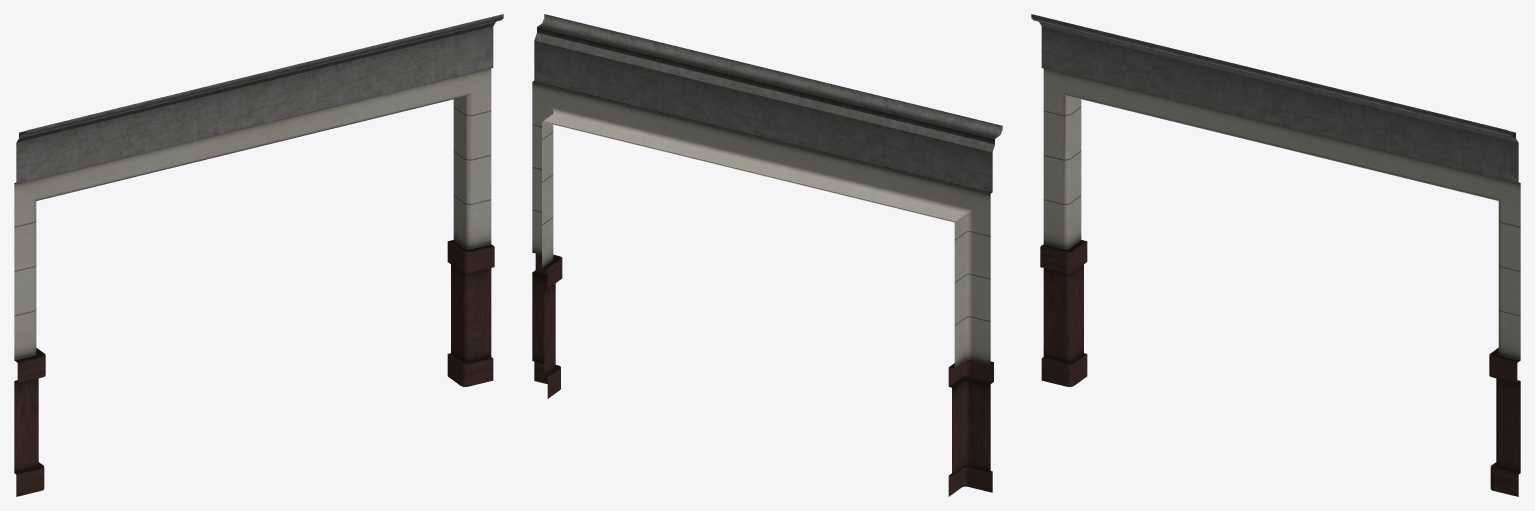
File: Wall 6 Gate.fbx
3 views of the same model, side by side, from view 1: azimuth 30°, elevation 25°; view 2: azimuth 150°, elevation 25°; view 3: azimuth 330°, elevation 25° (orthographic). The views are drawn at different scales.
Parts seen in each view (by area): view 1: Wall_6_Gate; view 2: Wall_6_Gate; view 3: Wall_6_Gate.
Part boxes in pixels (bbox=[...]): Wall_6_Gate: bbox=[14, 14, 503, 496]; Wall_6_Gate: bbox=[532, 14, 1002, 496]; Wall_6_Gate: bbox=[1031, 14, 1520, 496].
Bounding box in the file's own units: 400 × 300 × 38.12.
